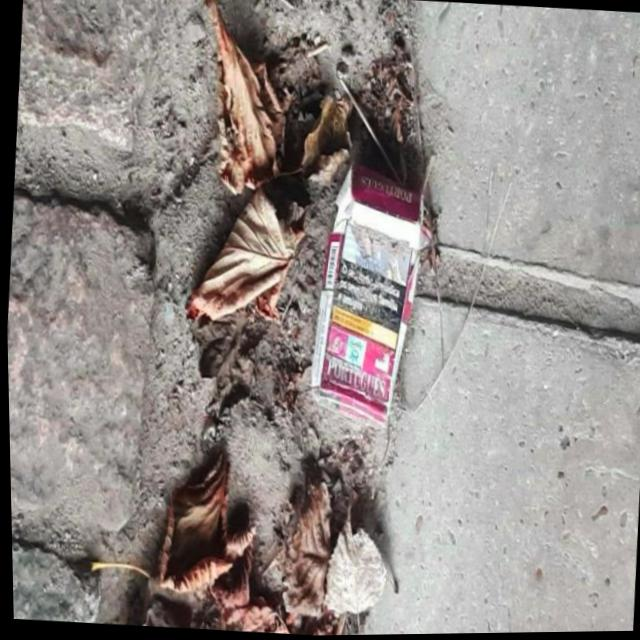Paper: (298, 156, 430, 436)
